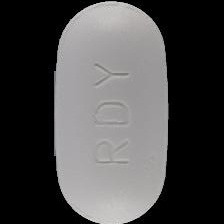61919-543: (0, 0, 224, 224)
